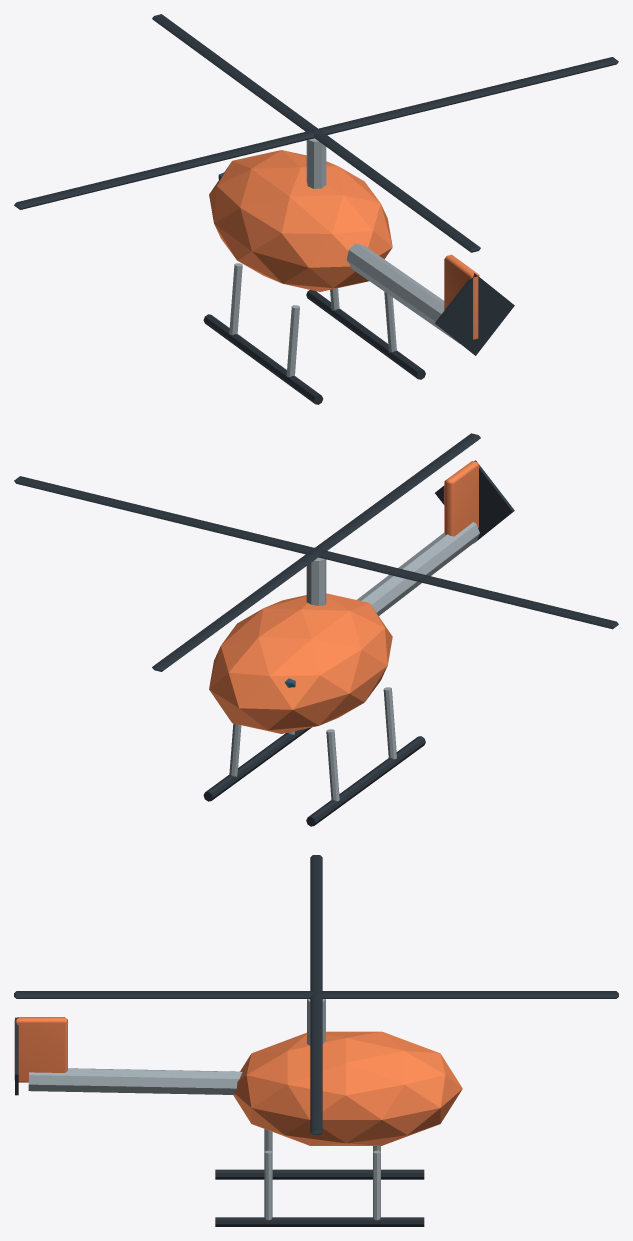
File: helicopter.glb
3 views of the same model, one above another, from view 1: azimuth 30°, elevation 25°; view 2: azimuth 150°, elevation 25°; view 3: azimuth 270°, elevation 25° (orthographic). The views are drawn at different scales.
Visible parts, largest first — view 1: helicopter_cabin, helicopter_main_rotor_x, helicopter_main_rotor_y, helicopter_tail_rotor, helicopter_tail_boom, helicopter_skid, helicopter_skid.001, helicopter_tail_fin, helicopter_main_mast, helicopter_skid_strut_b, helicopter_skid_strut_a; view 2: helicopter_cabin, helicopter_main_rotor_x, helicopter_main_rotor_y, helicopter_tail_boom, helicopter_tail_fin, helicopter_skid, helicopter_tail_rotor, helicopter_skid.001, helicopter_main_mast, helicopter_skid_strut_a, helicopter_skid_strut_b; view 3: helicopter_cabin, helicopter_tail_boom, helicopter_main_rotor_y, helicopter_main_rotor_x, helicopter_tail_fin, helicopter_skid, helicopter_skid.001, helicopter_skid_strut_a.001, helicopter_skid_strut_b.001.
Boxes of the visible parts, left/top/right/bottom form: helicopter_cabin: left=209, top=150, right=392, bottom=291; helicopter_main_rotor_x: left=14, top=57, right=618, bottom=209; helicopter_main_rotor_y: left=152, top=14, right=480, bottom=252; helicopter_tail_rotor: left=435, top=273, right=514, bottom=355; helicopter_tail_boom: left=346, top=243, right=459, bottom=343; helicopter_skid: left=203, top=314, right=323, bottom=404; helicopter_skid.001: left=306, top=290, right=425, bottom=379; helicopter_tail_fin: left=444, top=254, right=479, bottom=339; helicopter_main_mast: left=306, top=138, right=326, bottom=188; helicopter_skid_strut_b: left=229, top=263, right=242, bottom=334; helicopter_skid_strut_a: left=286, top=305, right=299, bottom=376; helicopter_cabin: left=209, top=593, right=392, bottom=733; helicopter_main_rotor_x: left=14, top=476, right=618, bottom=629; helicopter_main_rotor_y: left=152, top=433, right=480, bottom=671; helicopter_tail_boom: left=357, top=522, right=479, bottom=615; helicopter_tail_fin: left=444, top=461, right=479, bottom=536; helicopter_skid: left=306, top=736, right=425, bottom=826; helicopter_tail_rotor: left=435, top=460, right=514, bottom=543; helicopter_skid.001: left=203, top=727, right=311, bottom=801; helicopter_main_mast: left=306, top=557, right=326, bottom=605; helicopter_skid_strut_a: left=383, top=687, right=396, bottom=759; helicopter_skid_strut_b: left=326, top=729, right=339, bottom=801; helicopter_cabin: left=233, top=1031, right=462, bottom=1145; helicopter_tail_boom: left=28, top=1068, right=242, bottom=1094; helicopter_main_rotor_y: left=14, top=991, right=618, bottom=998; helicopter_main_rotor_x: left=310, top=855, right=322, bottom=1134; helicopter_tail_fin: left=14, top=1017, right=67, bottom=1082; helicopter_skid: left=215, top=1169, right=424, bottom=1179; helicopter_skid.001: left=215, top=1217, right=424, bottom=1226; helicopter_skid_strut_a.001: left=264, top=1150, right=272, bottom=1220; helicopter_skid_strut_b.001: left=373, top=1150, right=380, bottom=1220.
Bounding box in the file's own units: 8.9 × 3.15 × 8.2.
